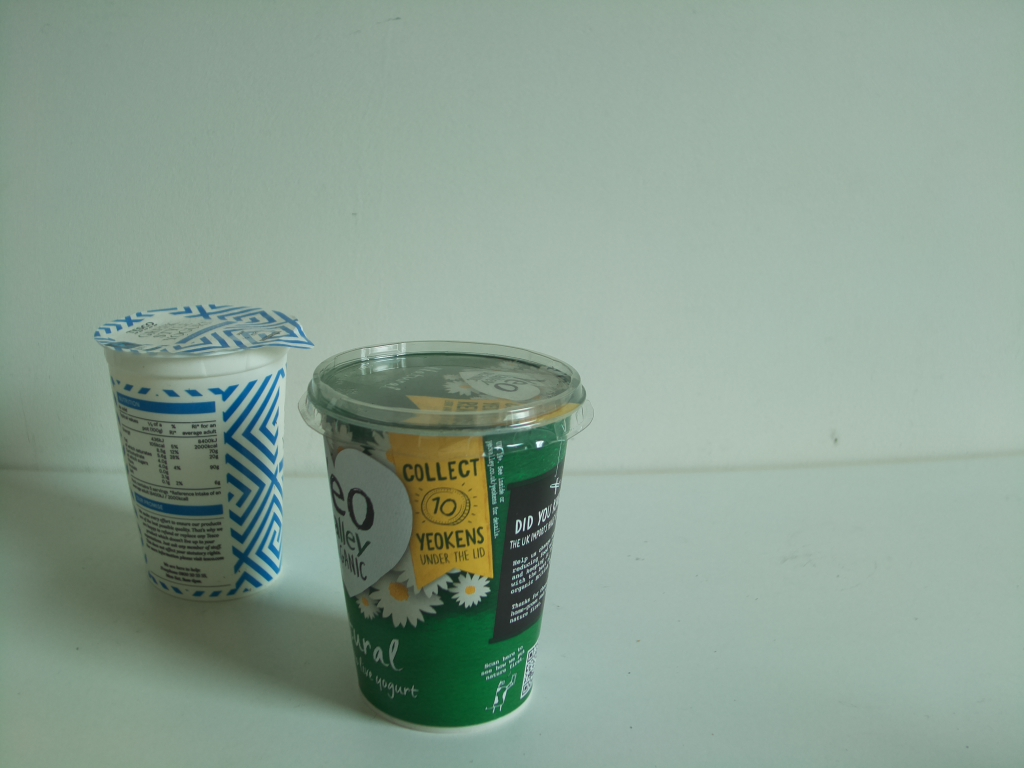yogurt: (303, 333, 601, 740), (96, 301, 315, 603)
